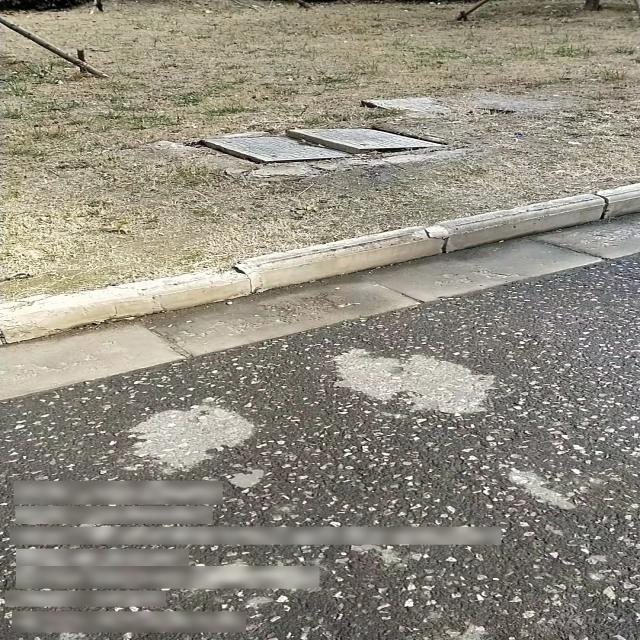Lose: (197, 126, 448, 167)
